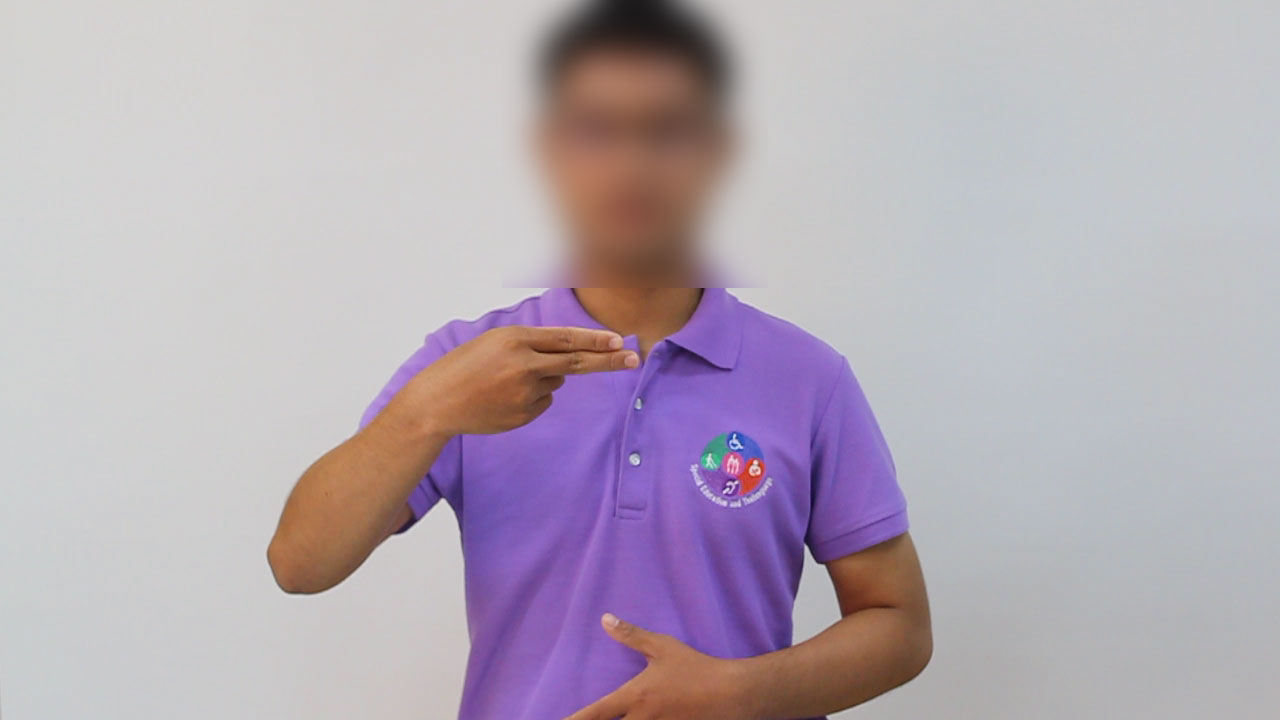hor: (405, 320, 645, 441)
